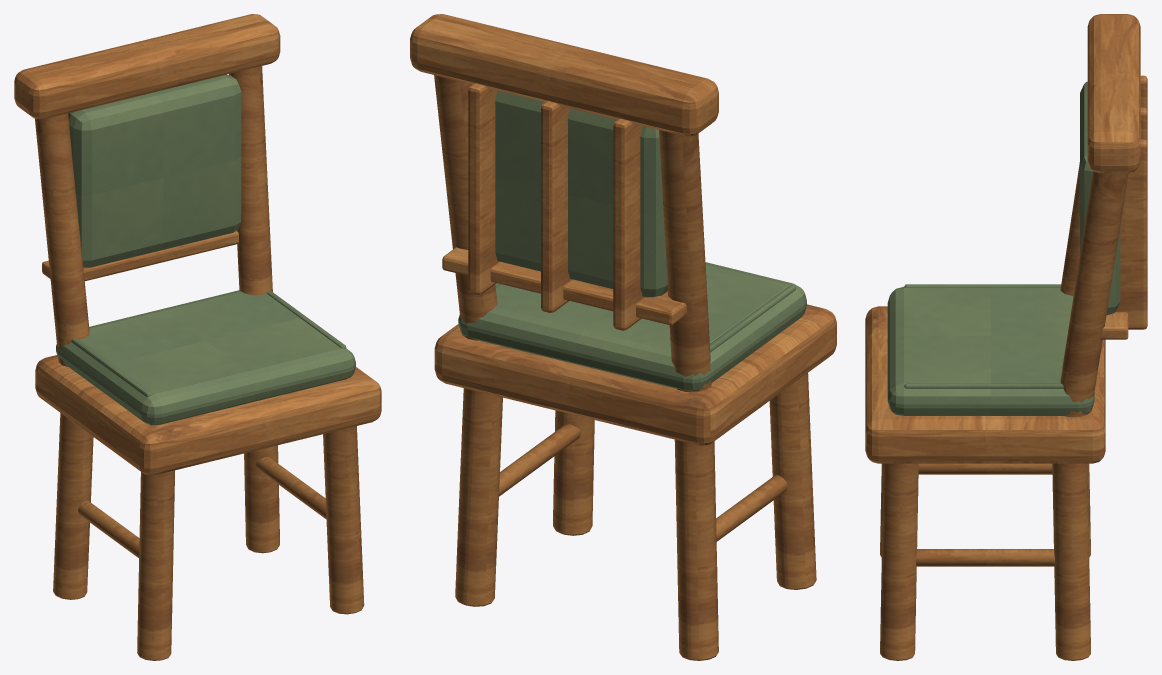
File: WC_CAFE_Chair_A.glb
The picture shows the model from 3 angles, left to right: view 1: azimuth 30°, elevation 25°; view 2: azimuth 150°, elevation 25°; view 3: azimuth 270°, elevation 25°; orthographic projection. The views are drawn at different scales.
Visible parts, largest first — view 1: WC_CAFE_Chair_A_PolishedRenderMesh; view 2: WC_CAFE_Chair_A_PolishedRenderMesh; view 3: WC_CAFE_Chair_A_PolishedRenderMesh.
Part boxes in pixels (left/top/right/bottom): WC_CAFE_Chair_A_PolishedRenderMesh: left=14, top=14, right=381, bottom=660; WC_CAFE_Chair_A_PolishedRenderMesh: left=410, top=14, right=836, bottom=660; WC_CAFE_Chair_A_PolishedRenderMesh: left=865, top=14, right=1147, bottom=660.
Bounding box in the file's own units: 0.54 × 1.05 × 0.505.
4 materials, 4 textured.
